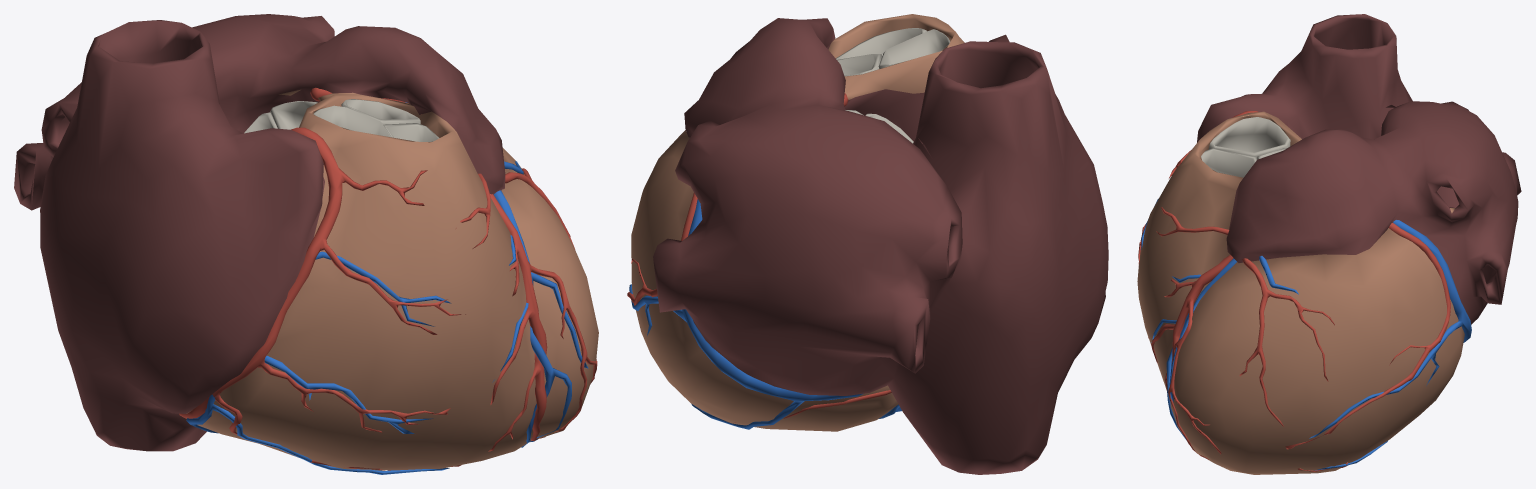
File: heart.glb
3 views of the same model, side by side, from view 1: azimuth 30°, elevation 25°; view 2: azimuth 150°, elevation 25°; view 3: azimuth 270°, elevation 25° (orthographic). The views are drawn at different scales.
Visible parts, largest first — view 1: heart_low1, heart_low4, heart_low3, heart_low2, heart_low5, heart_low6; view 2: heart_low1, heart_low3, heart_low5, heart_low2; view 3: heart_low1, heart_low2, heart_low3, heart_low5.
Part boxes in pixels (x1,y1,x2,y2): heart_low1: [14, 14, 598, 470]; heart_low4: [179, 127, 465, 470]; heart_low3: [186, 102, 588, 474]; heart_low2: [310, 87, 597, 451]; heart_low5: [313, 99, 439, 141]; heart_low6: [244, 101, 317, 133]; heart_low1: [631, 14, 1108, 474]; heart_low3: [629, 199, 901, 429]; heart_low5: [836, 28, 950, 76]; heart_low2: [627, 93, 848, 305]; heart_low1: [1137, 14, 1521, 474]; heart_low2: [1151, 207, 1450, 459]; heart_low3: [1140, 198, 1471, 470]; heart_low5: [1201, 117, 1290, 177].
Bounding box in the file's own units: 1.15 × 1.05 × 1.1.
